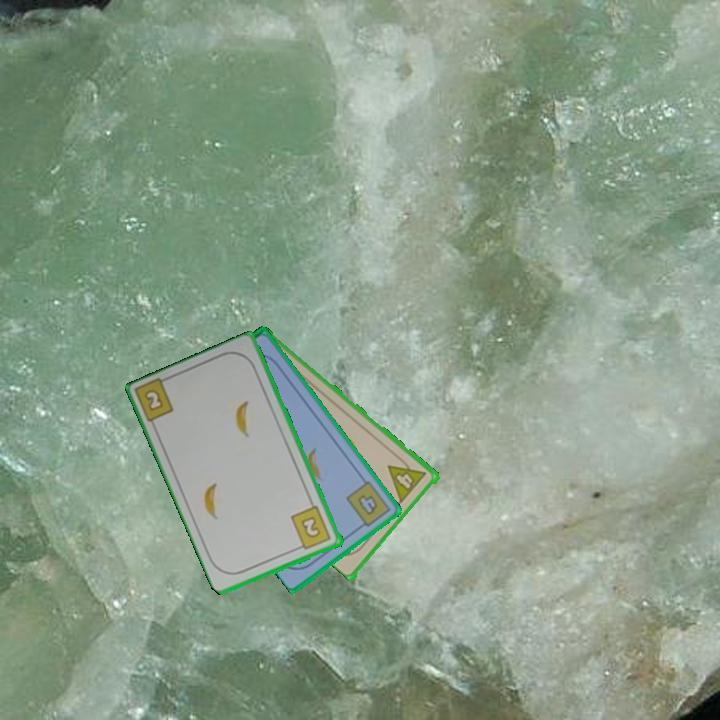2b: (288, 503, 334, 553), (141, 386, 167, 414)
4b: (343, 477, 394, 532)
4p: (385, 452, 430, 505)
